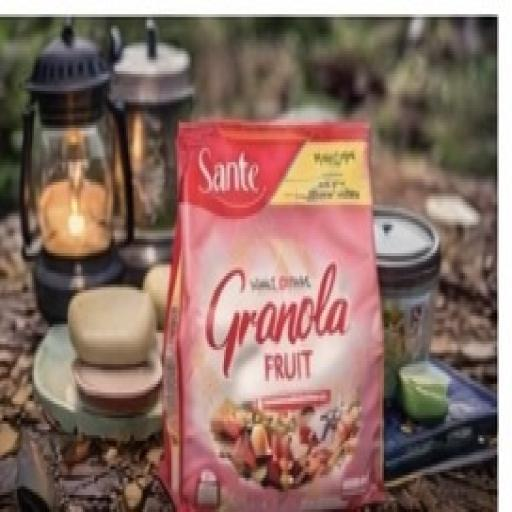granola: (126, 96, 416, 512)
